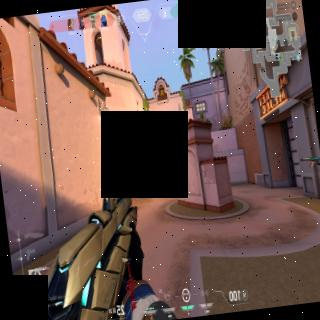ENEMY-BODY: (177, 154, 180, 164)
ENEMY-HEAD: (178, 155, 179, 157)
